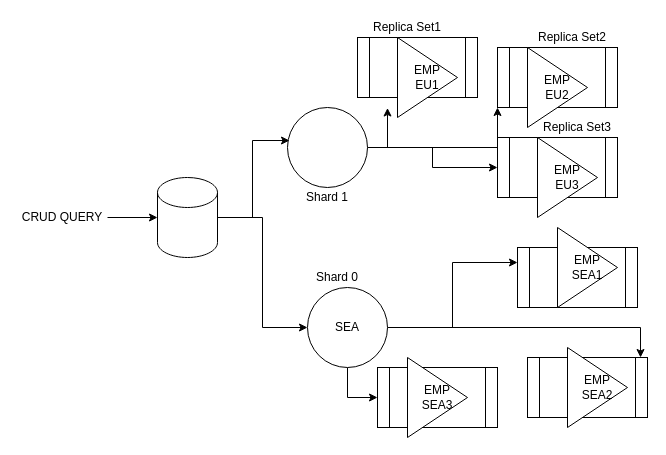
This 666x455 diagram has some shape labels left out. Here are the shapes that lost their labels. From the top down, the centre of each, then its label:
At point (327, 147): "EU".
At point (187, 217): "MongoS".
